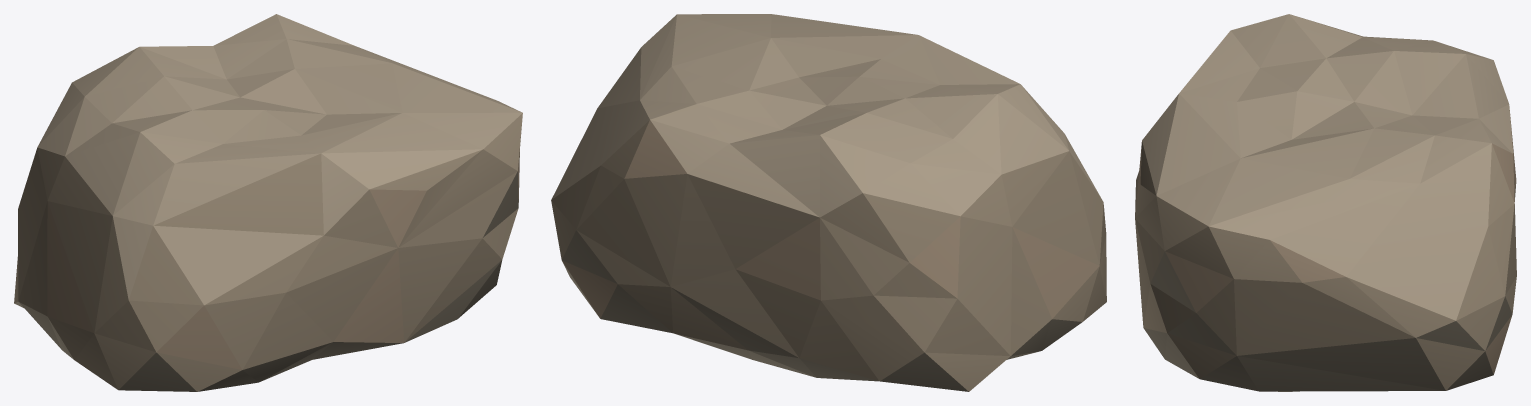
File: coast_scatter_c.glb
3 views of the same model, side by side, from view 1: azimuth 30°, elevation 25°; view 2: azimuth 150°, elevation 25°; view 3: azimuth 270°, elevation 25° (orthographic). The views are drawn at different scales.
Visible parts, largest first — view 1: coast_scatter_c; view 2: coast_scatter_c; view 3: coast_scatter_c.
Boxes of the visible parts, x1=… form: coast_scatter_c: x1=14, y1=14, x2=522, y2=391; coast_scatter_c: x1=551, y1=14, x2=1106, y2=391; coast_scatter_c: x1=1135, y1=14, x2=1516, y2=391.
Bounding box in the file's own units: 1.9 × 0.95 × 1.4.
